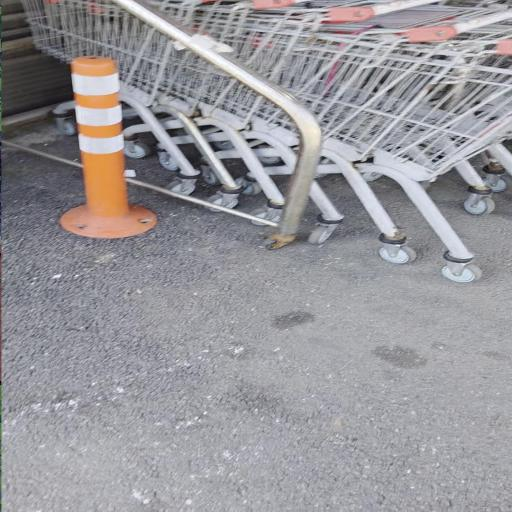combined_cart: (3, 2, 512, 288)
